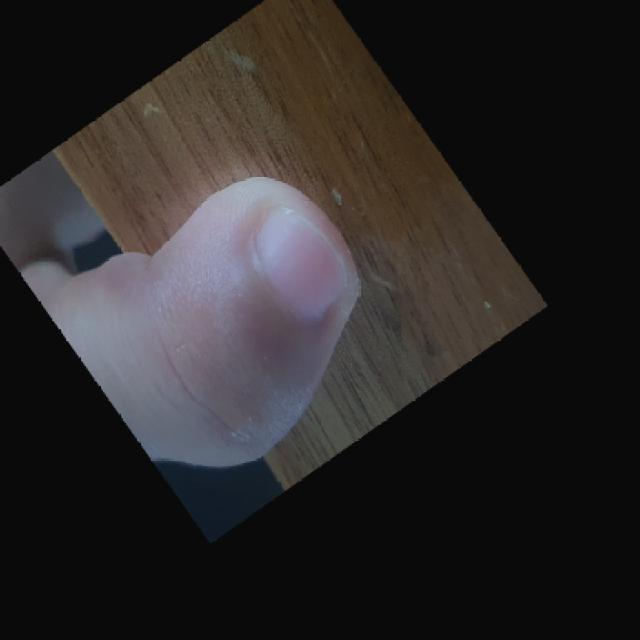Nail: (257, 205, 347, 319)
